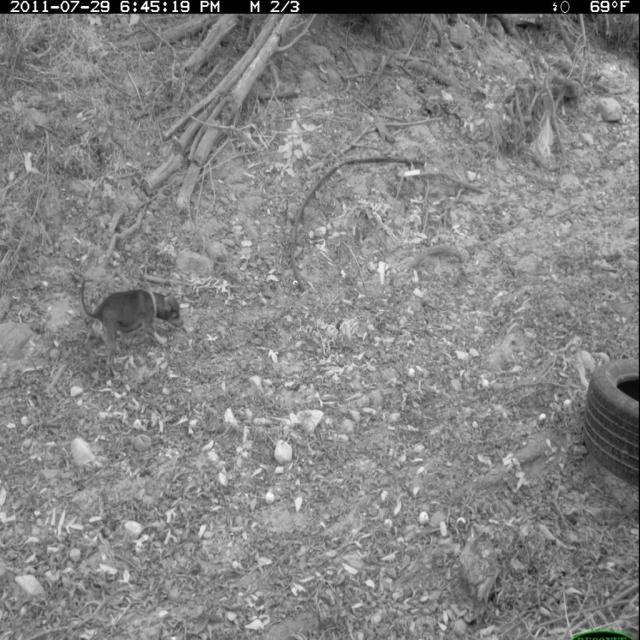dog: (75, 276, 186, 374)
